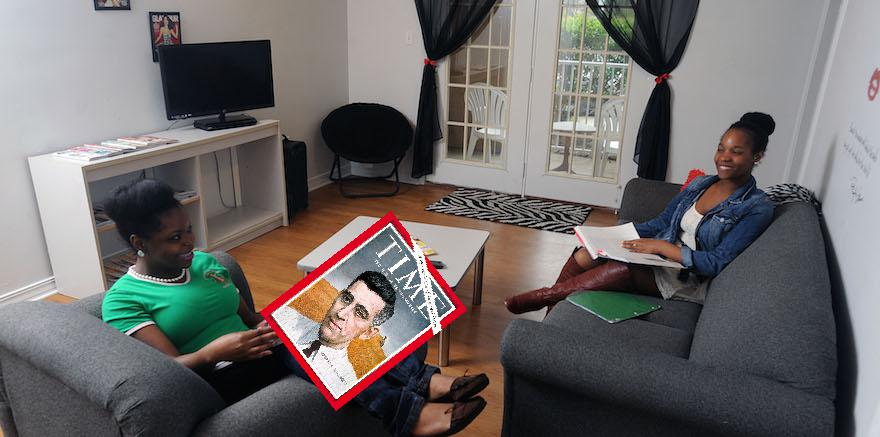times: (258, 204, 469, 410)
